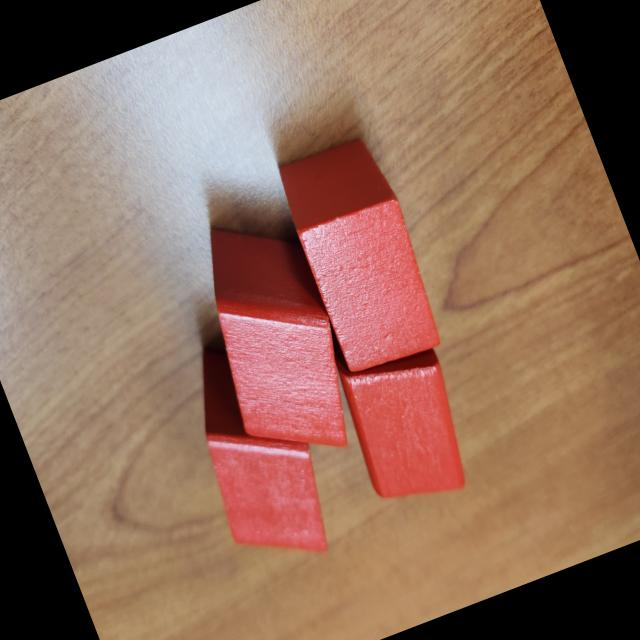red: (172, 199, 376, 481), (166, 323, 356, 584), (270, 130, 453, 382), (320, 308, 488, 520)
